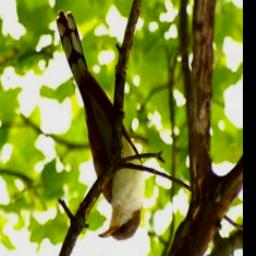Cuckoo: (54, 9, 145, 243)
